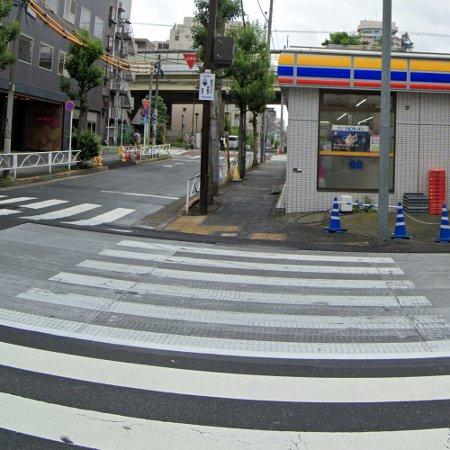crosswalks: (0, 234, 450, 449)
